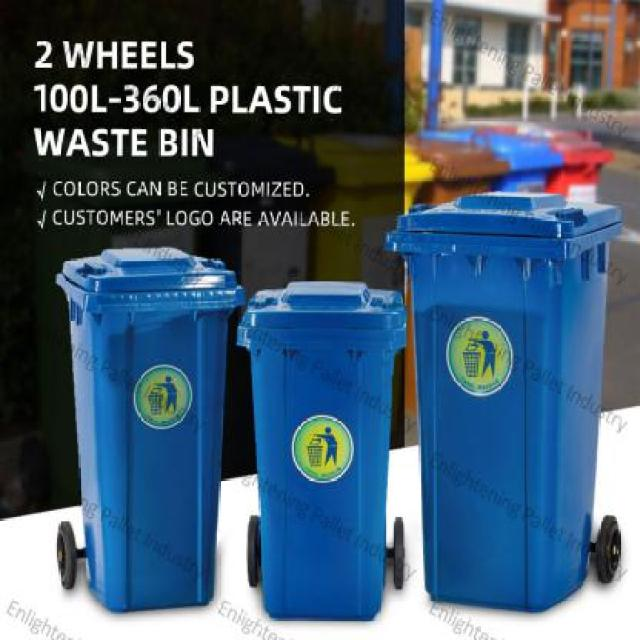garbage container: (386, 188, 631, 620), (48, 238, 248, 622), (232, 278, 417, 624)
